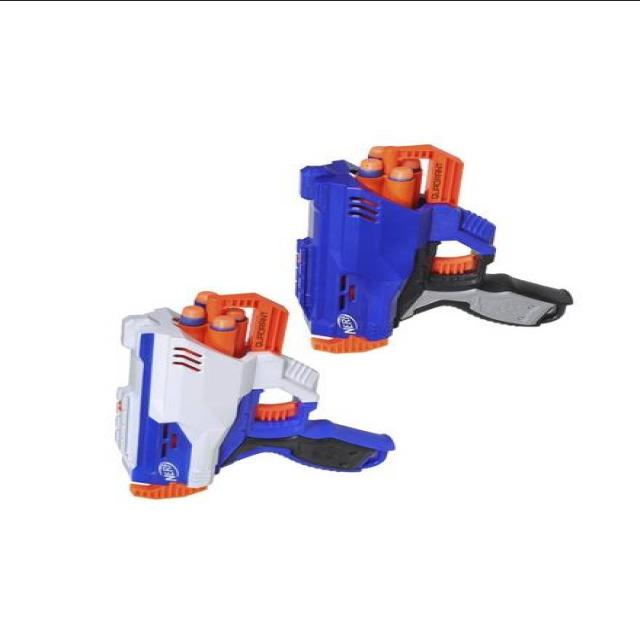Nerf gun: (286, 137, 578, 358), (107, 288, 408, 502)
